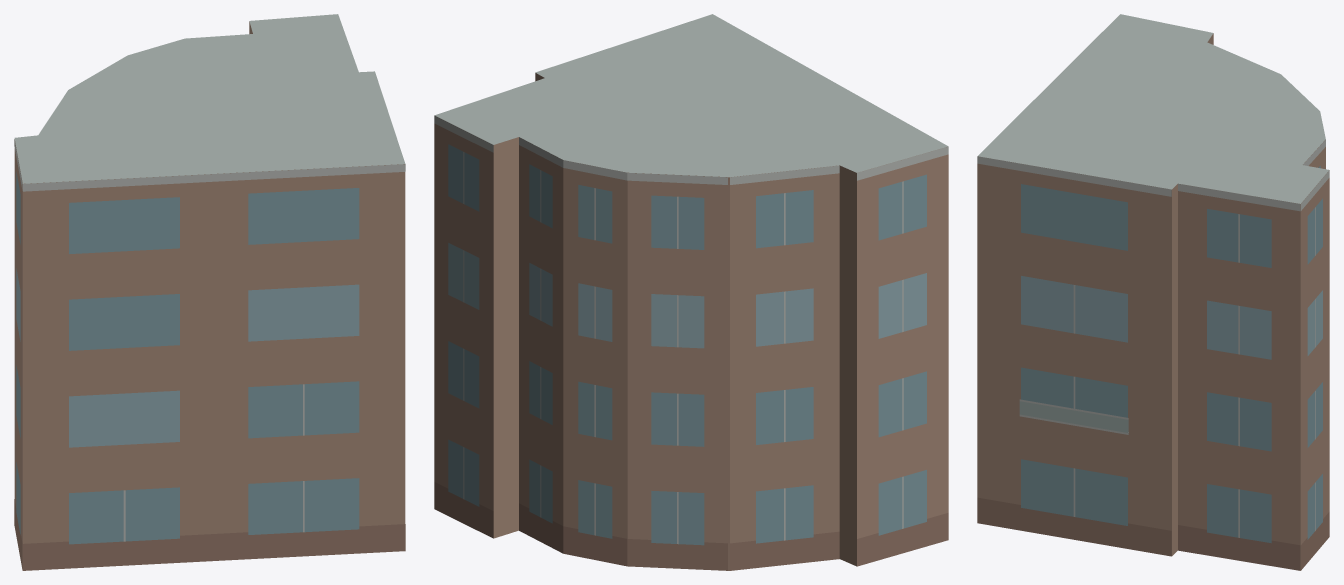
The model's file is survey-upis-32494350.glb.
3 renders of one model, left to right at view 1: azimuth 30°, elevation 25°; view 2: azimuth 150°, elevation 25°; view 3: azimuth 270°, elevation 25°, orthographic. The views are drawn at different scales.
Visible parts, largest first — view 1: survey-upis-32494350.tmp; view 2: survey-upis-32494350.tmp; view 3: survey-upis-32494350.tmp.
Boxes of the visible parts, left/top/right/bottom form: survey-upis-32494350.tmp: left=14, top=14, right=405, bottom=570; survey-upis-32494350.tmp: left=434, top=14, right=948, bottom=570; survey-upis-32494350.tmp: left=977, top=14, right=1329, bottom=570.
Bounding box in the file's own units: 13.44 × 12.1 × 10.53.
